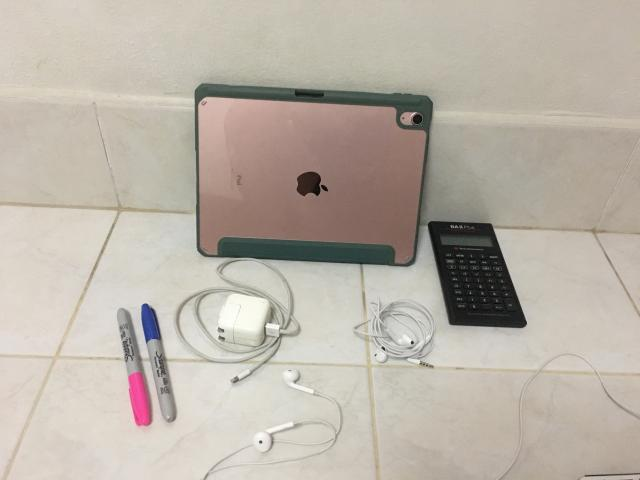Pen: (141, 304, 176, 421), (118, 309, 150, 425)
wire: (174, 258, 300, 382), (202, 369, 342, 479), (354, 299, 435, 368)
